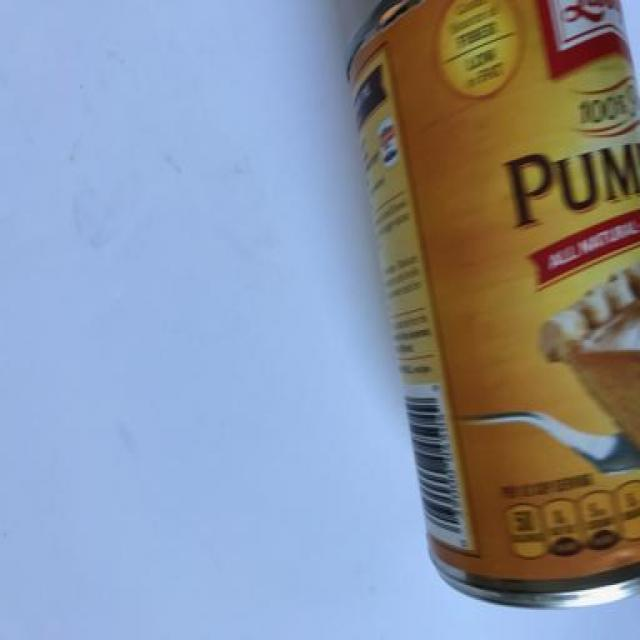metel: (333, 1, 640, 608)
